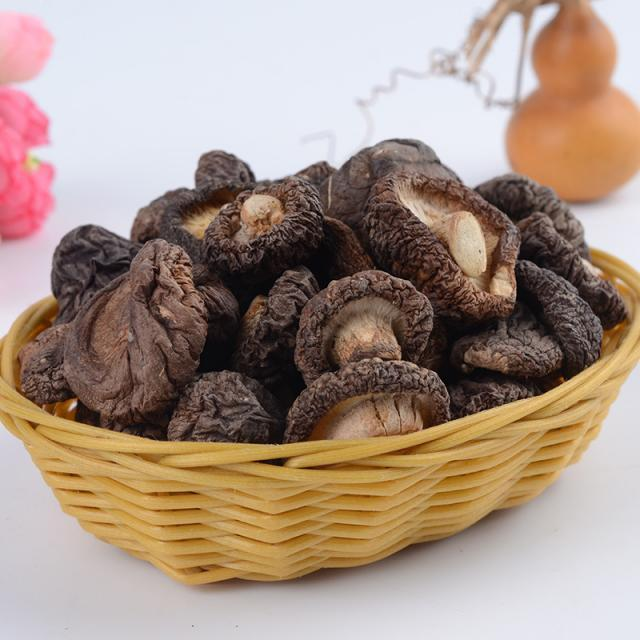Lentinus edodes: (69, 241, 211, 414), (370, 164, 519, 320), (302, 271, 431, 383), (286, 360, 451, 442), (204, 175, 323, 267), (162, 375, 280, 444)
